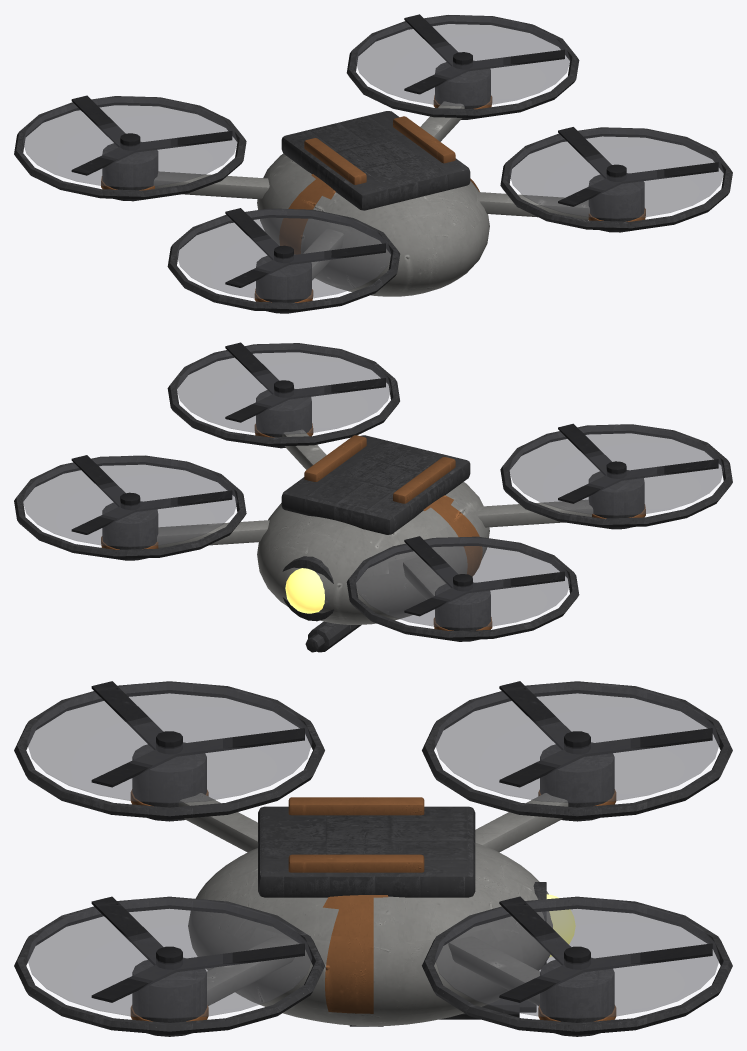
File: arc_wasp.glb
The picture shows the model from 3 angles, top to bottom: view 1: azimuth 30°, elevation 25°; view 2: azimuth 150°, elevation 25°; view 3: azimuth 270°, elevation 25°; orthographic projection. The views are drawn at different scales.
Parts seen in each view (by area): view 1: wasp_hull, wasp_rotor_1, wasp_rotor_0, wasp_rotor_2, wasp_rotor_3; view 2: wasp_hull, wasp_rotor_2, wasp_rotor_1, wasp_rotor_3, wasp_rotor_0; view 3: wasp_hull, wasp_rotor_3, wasp_rotor_1, wasp_rotor_2, wasp_rotor_0.
Boxes of the visible parts, left/top/right/bottom form: wasp_hull: left=14, top=15, right=732, bottom=313; wasp_rotor_1: left=355, top=14, right=570, bottom=106; wasp_rotor_0: left=23, top=95, right=237, bottom=187; wasp_rotor_2: left=509, top=127, right=723, bottom=218; wasp_rotor_3: left=176, top=208, right=391, bottom=300; wasp_hull: left=14, top=343, right=732, bottom=652; wasp_rotor_2: left=176, top=342, right=391, bottom=434; wasp_rotor_1: left=22, top=455, right=237, bottom=547; wasp_rotor_3: left=509, top=423, right=723, bottom=515; wasp_rotor_0: left=355, top=536, right=570, bottom=628; wasp_hull: left=14, top=681, right=732, bottom=1036; wasp_rotor_3: left=27, top=681, right=312, bottom=803; wasp_rotor_1: left=434, top=896, right=719, bottom=1018; wasp_rotor_2: left=27, top=896, right=312, bottom=1018; wasp_rotor_0: left=434, top=681, right=719, bottom=803.
Size of the model in its own units: 2.42 by 0.635 by 2.12.
Materials: 6 (4 with a texture image).
